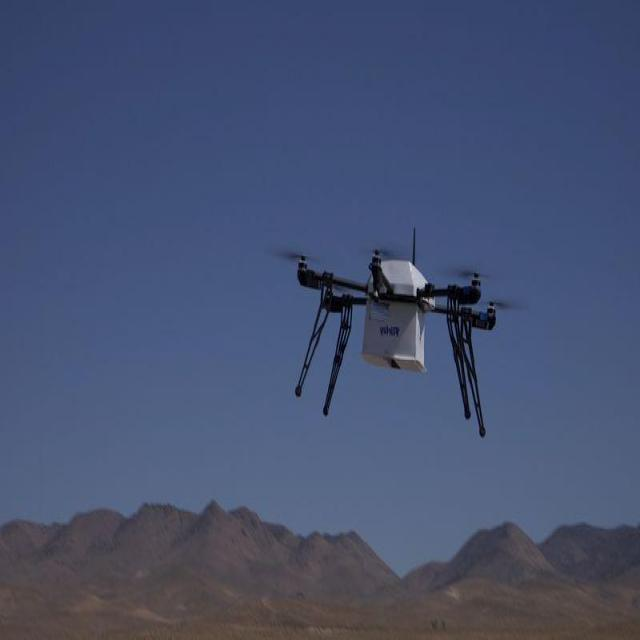drone: (292, 226, 508, 442)
